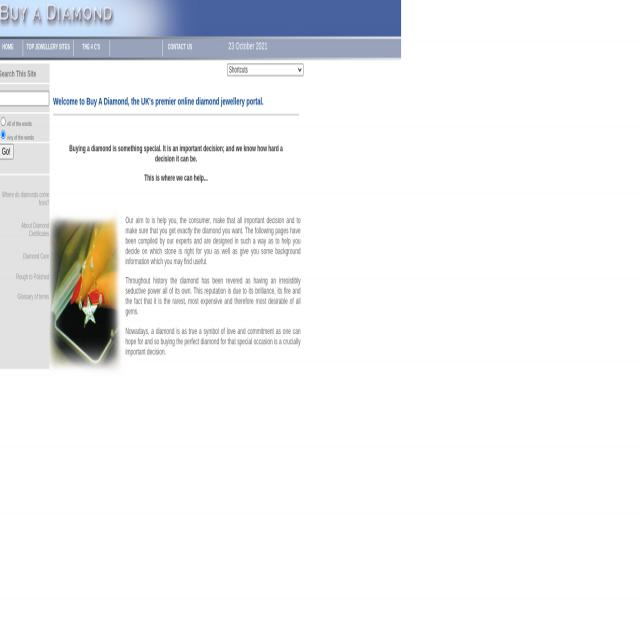button: (50, 219, 119, 368), (24, 41, 73, 57), (163, 40, 199, 58), (74, 41, 109, 56), (0, 39, 22, 57), (0, 144, 14, 158)
field: (227, 63, 303, 75), (0, 91, 49, 105), (0, 116, 5, 125), (0, 129, 5, 138)
